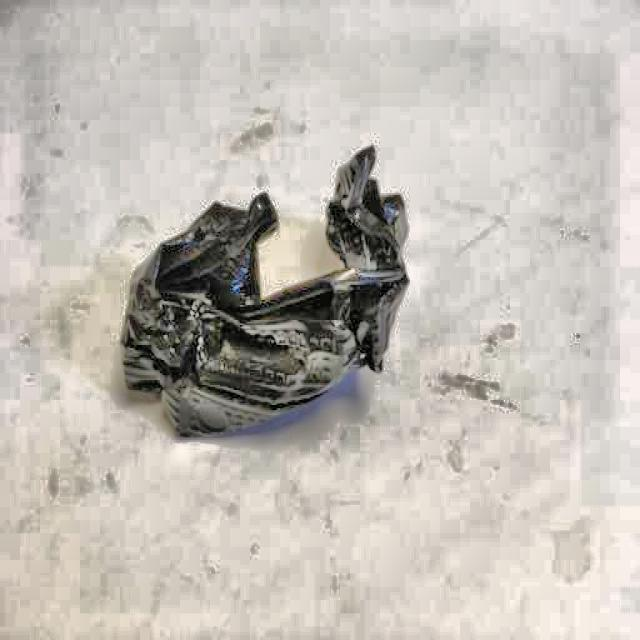plastic: (123, 145, 405, 434)
